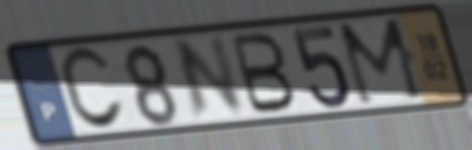5: (286, 22, 354, 110)
8: (120, 39, 180, 128)
B: (228, 31, 299, 117)
C: (56, 44, 128, 135)
M: (333, 14, 430, 110)
N: (169, 31, 249, 125)
